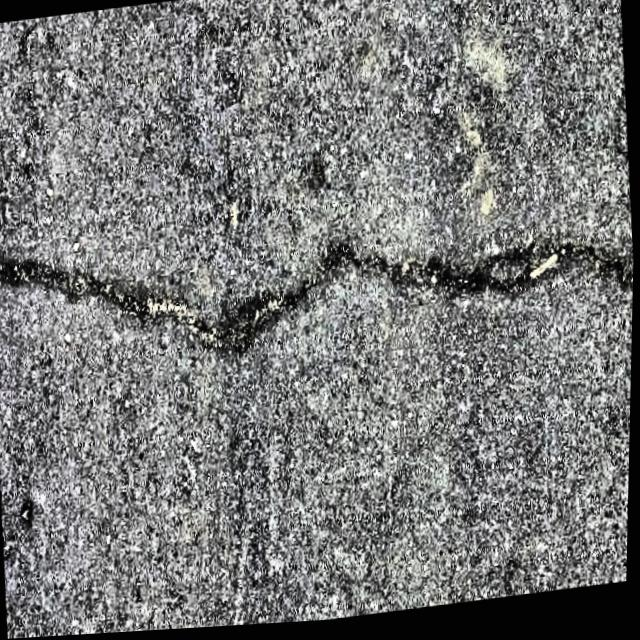cracks: (0, 243, 633, 346)
